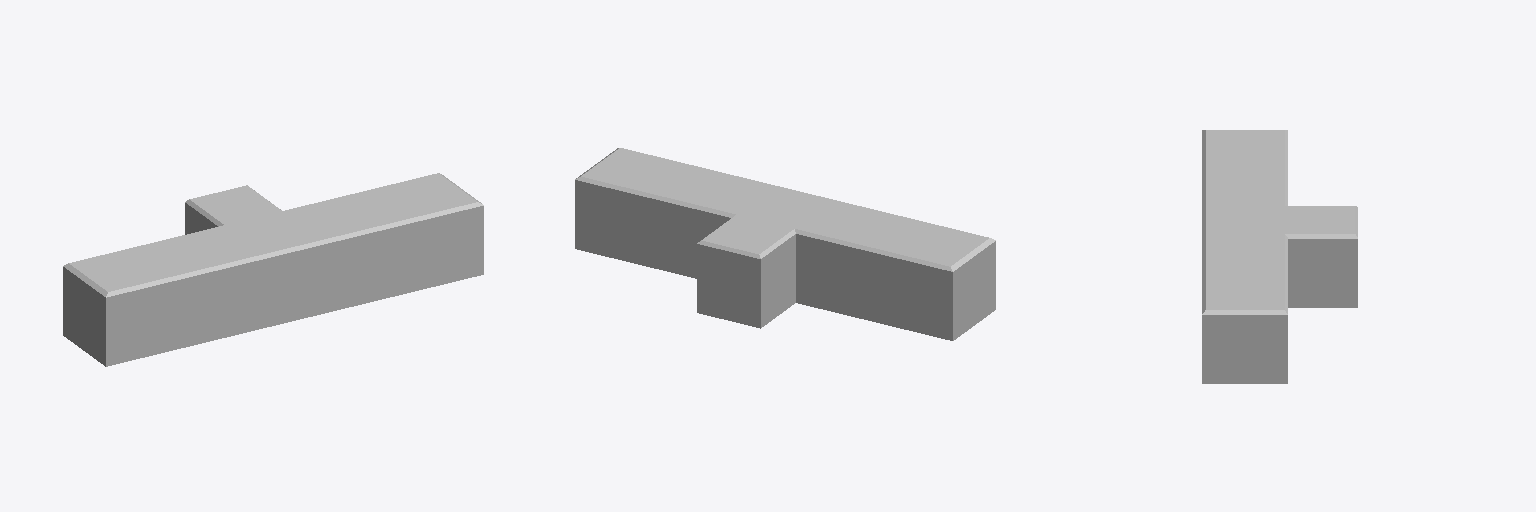
The model's file is Corridor.obj.
3 views of the same model, side by side, from view 1: azimuth 30°, elevation 25°; view 2: azimuth 150°, elevation 25°; view 3: azimuth 270°, elevation 25° (orthographic).
Visible parts, largest first — view 1: Cube_Cube.001; view 2: Cube_Cube.001; view 3: Cube_Cube.001.
Boxes of the visible parts, x1,y1,x2,y2 form: Cube_Cube.001: [63, 173, 483, 366]; Cube_Cube.001: [575, 148, 995, 340]; Cube_Cube.001: [1202, 130, 1357, 383].
Bounding box in the file's own units: 41.37 × 7.54 × 14.84.